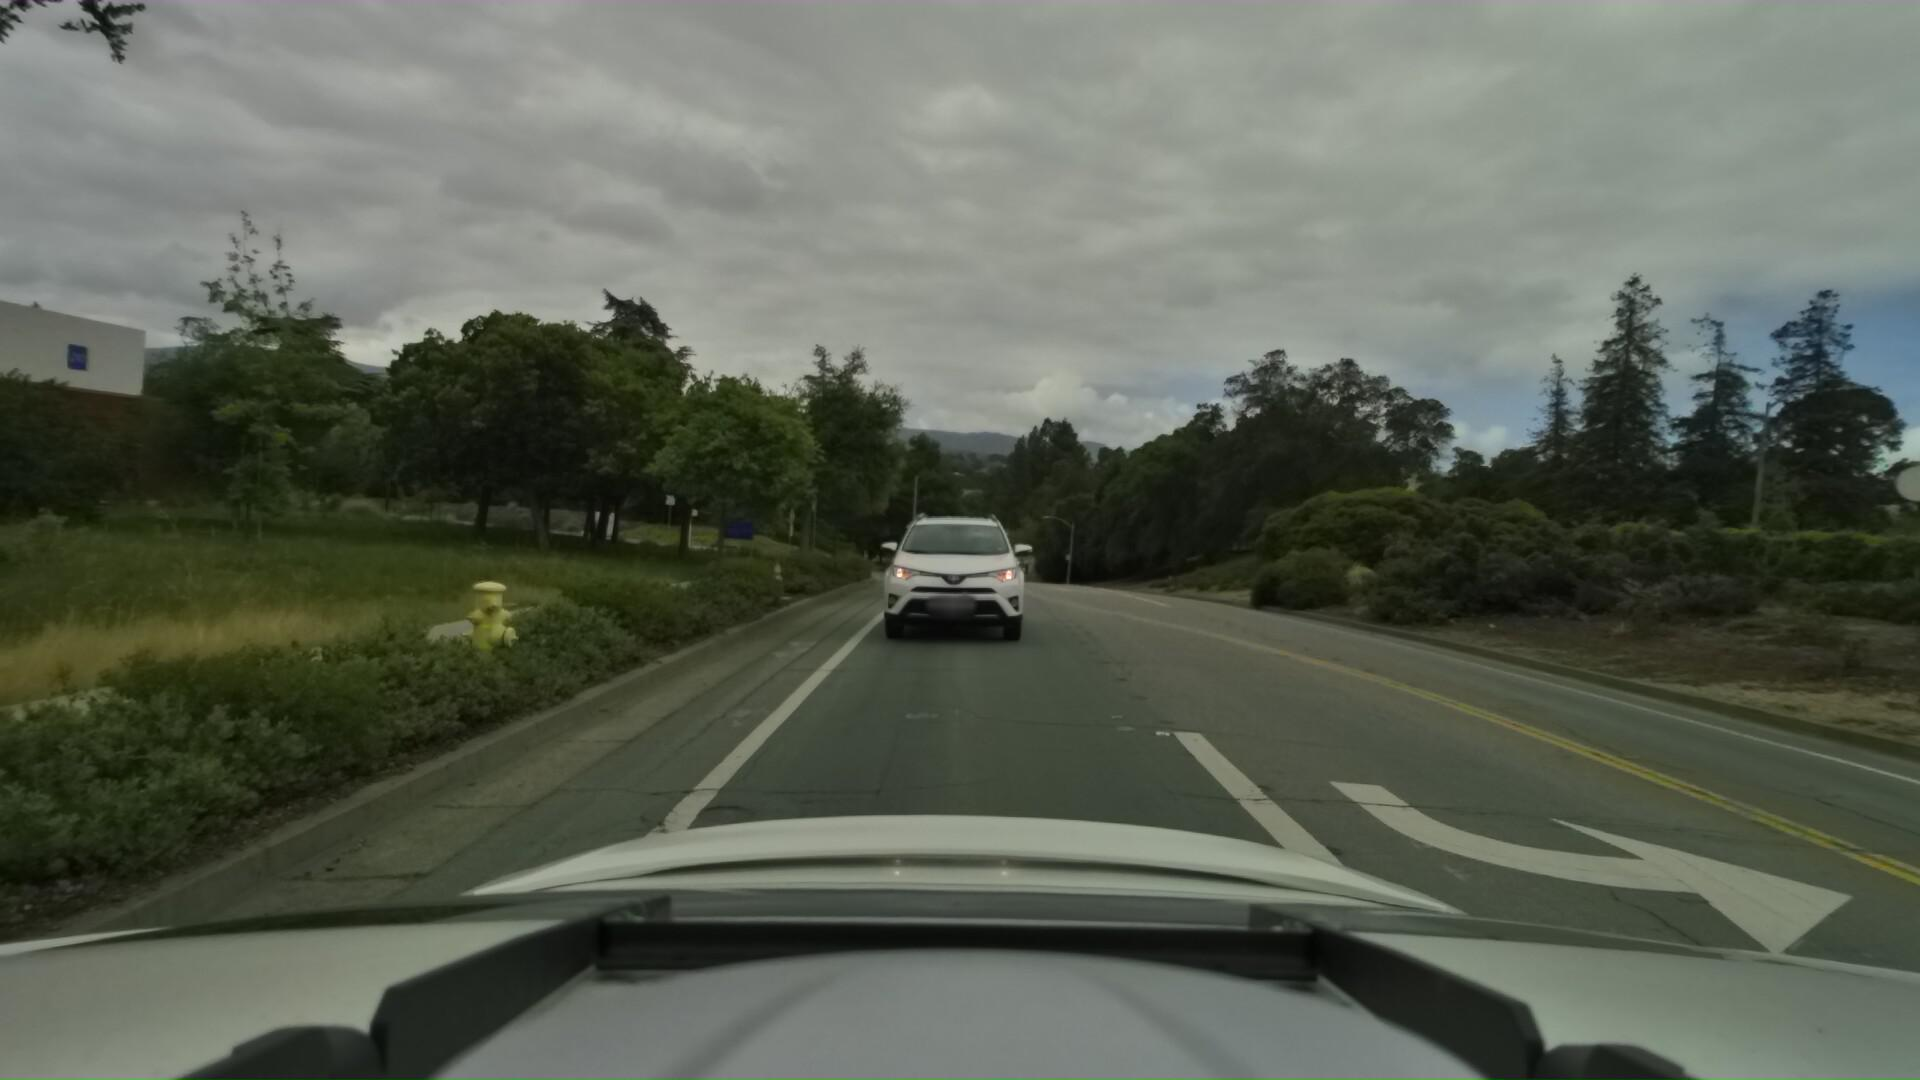car: (873, 504, 1027, 651)
